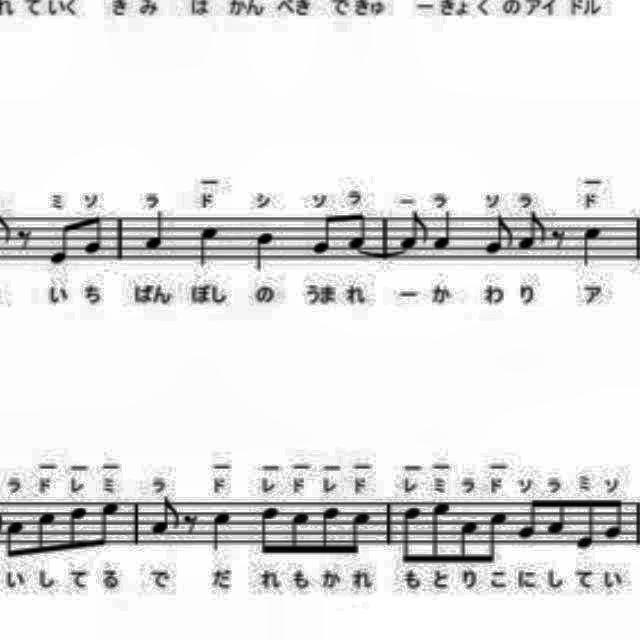Eighth-note: (515, 207, 549, 259), (146, 494, 182, 542), (428, 498, 452, 568), (398, 502, 424, 566), (304, 212, 338, 258), (47, 218, 77, 270), (257, 500, 283, 560), (397, 208, 429, 256), (482, 211, 514, 259), (318, 504, 342, 560), (573, 496, 597, 552), (0, 510, 26, 560), (100, 498, 124, 550), (67, 504, 91, 556), (488, 506, 508, 566), (516, 498, 542, 544), (345, 210, 373, 252), (602, 493, 626, 542), (34, 508, 58, 556), (81, 212, 107, 256), (544, 494, 570, 538), (350, 507, 372, 558), (458, 518, 480, 566), (290, 511, 310, 559)
Eighth-rest: (544, 224, 572, 264), (12, 222, 36, 258), (179, 509, 203, 539)
Quarter-note: (140, 204, 168, 258), (206, 504, 234, 556), (428, 206, 456, 254), (250, 228, 276, 276), (578, 222, 604, 270), (198, 222, 222, 270)
